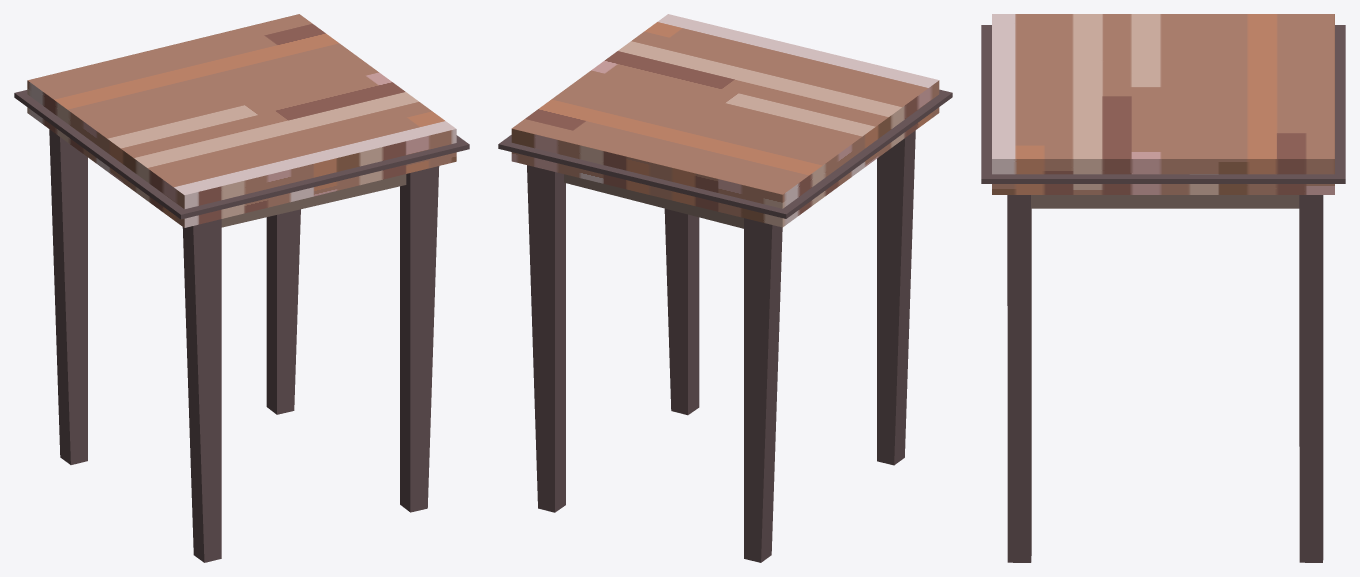
Rendered from end table.fbx.
3 views of the same model, side by side, from view 1: azimuth 30°, elevation 25°; view 2: azimuth 150°, elevation 25°; view 3: azimuth 270°, elevation 25° (orthographic). The views are drawn at different scales.
Visible parts, largest first — view 1: Cube, Cube.003, Cube.004, Cube.006, Cube.005, Cube.001, Cube.010; view 2: Cube, Cube.005, Cube.006, Cube.003, Cube.004, Cube.001, Cube.009; view 3: Cube, Cube.005, Cube.004, Cube.001, Cube.008.
Part boxes in pixels (x1,y1,x2,y2): Cube: (27, 14, 456, 227); Cube.003: (182, 219, 221, 562); Cube.004: (400, 166, 439, 512); Cube.006: (49, 129, 87, 464); Cube.005: (266, 209, 300, 414); Cube.001: (14, 90, 469, 219); Cube.010: (221, 174, 406, 227); Cube: (511, 14, 939, 227); Cube.005: (527, 165, 565, 512); Cube.006: (744, 218, 782, 562); Cube.003: (877, 130, 915, 465); Cube.004: (664, 208, 699, 415); Cube.001: (498, 89, 952, 218); Cube.009: (564, 174, 743, 228); Cube: (992, 14, 1334, 194); Cube.005: (1299, 195, 1323, 562); Cube.004: (1007, 195, 1031, 562); Cube.001: (981, 25, 1345, 183); Cube.008: (1031, 195, 1299, 208).
Bounding box in the file's own units: 505 × 635 × 505.
